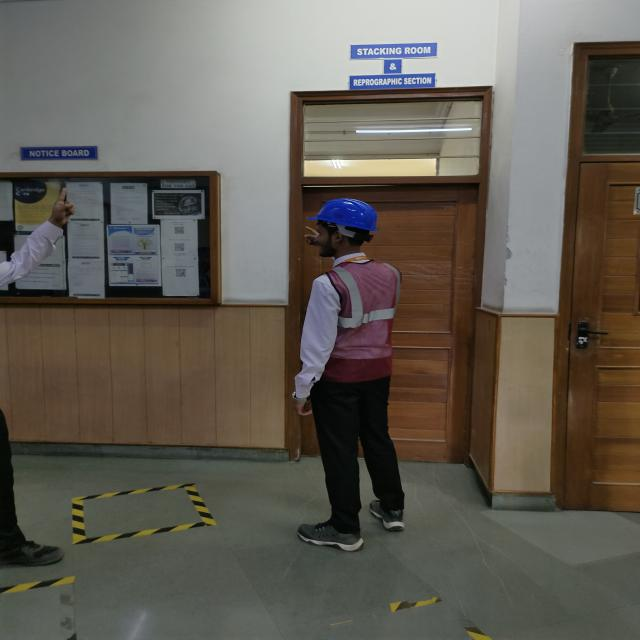safe: (297, 197, 403, 545)
